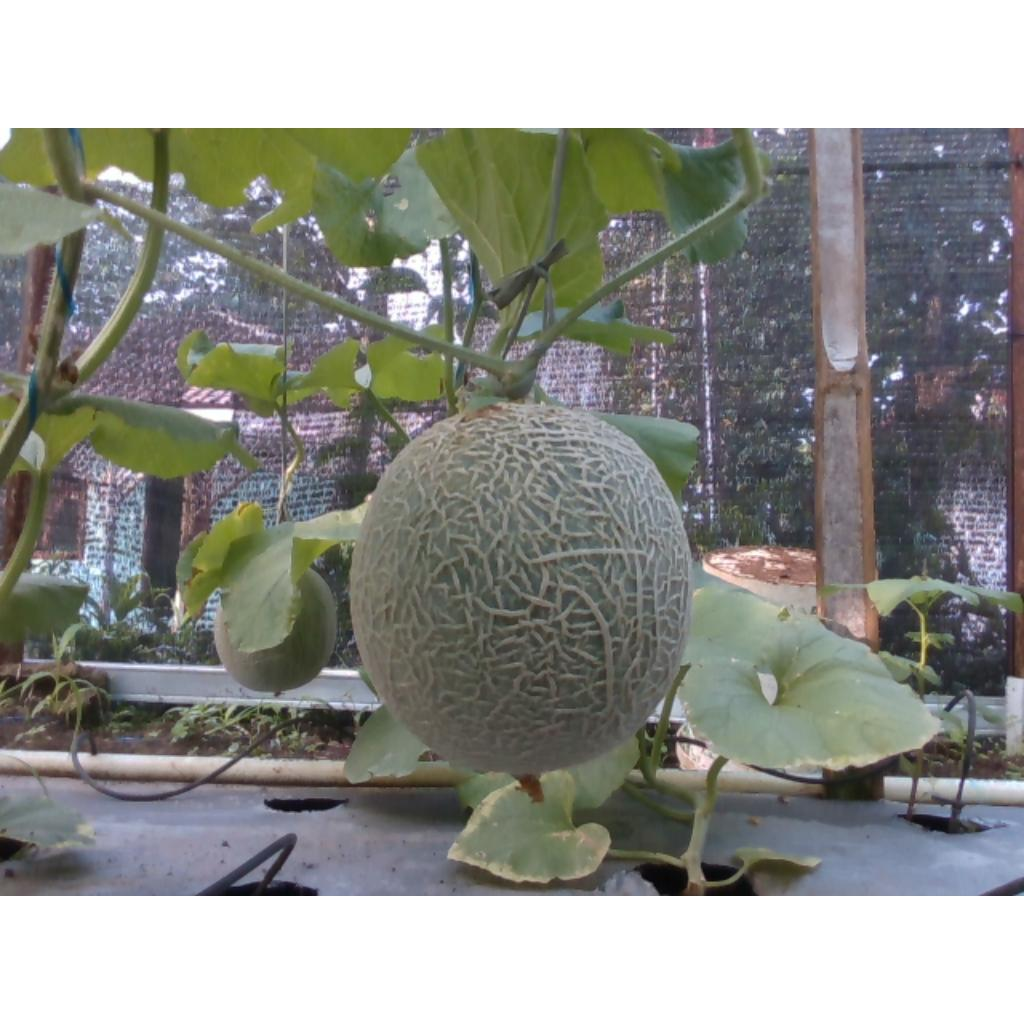melon: (350, 403, 693, 775)
